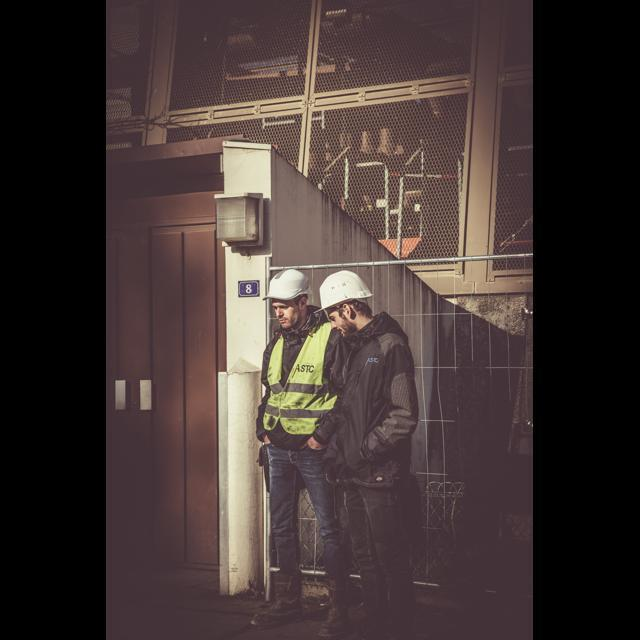helmet: (313, 270, 375, 310), (255, 265, 310, 301)
safety_vest: (265, 317, 338, 447)
